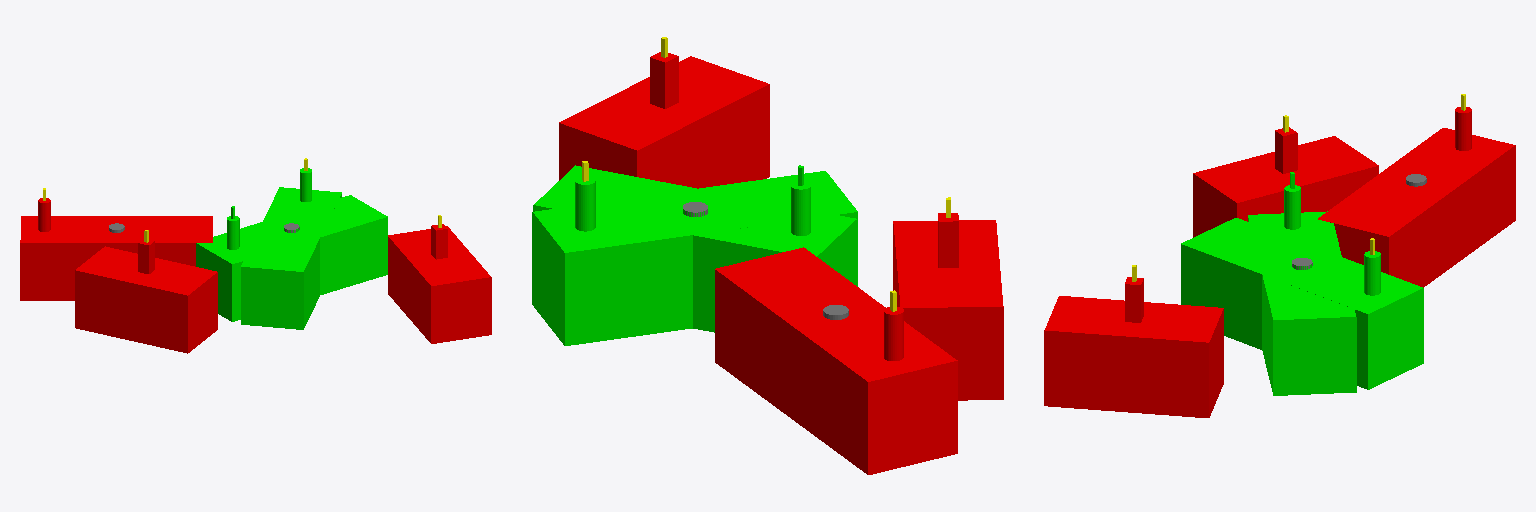
robot.urdf — continuous_space1:
<?xml version="1.0"?>
<!-- created with Phobos 1.0.1 "Capricious Choutengan" -->
  <robot name="continuous_space1">

    <link name="base_link">
    </link>

    <link name="goal">
      <visual name="visual_box_0_link_0.001">
        <origin xyz="0 0 0" rpy="0 0 0"/>
        <geometry>
          <box size="2.996 0.998 0.998"/>
        </geometry>
        <material name="green_translucent"/>
      </visual>
    </link>

    <link name="link_0_joint_0">
      <visual name="visual_box_0_link_0">
        <origin xyz="0 0 0" rpy="0 0 0"/>
        <geometry>
          <box size="2.999 0.999 0.999"/>
        </geometry>
        <material name="green"/>
      </visual>
      <collision name="collision_box_0_link_0">
        <origin xyz="0 0 0" rpy="0 0 0"/>
        <geometry>
          <box size="2.999 0.999 0.999"/>
        </geometry>
      </collision>
    </link>

    <link name="link_1_joint_0">
      <visual name="visual_box_4_link_1">
        <origin xyz="0 0 0" rpy="0 0 0"/>
        <geometry>
          <box size="1.999 0.999 0.999"/>
        </geometry>
        <material name="red"/>
      </visual>
      <collision name="collision_box_4_link_1">
        <origin xyz="0 0 0" rpy="0 0 0"/>
        <geometry>
          <box size="1.999 0.999 0.999"/>
        </geometry>
      </collision>
    </link>

    <link name="link_2_joint_0">
      <visual name="visual_box_24_link_2">
        <origin xyz="0 0 0" rpy="0 0 0"/>
        <geometry>
          <box size="2.999 0.999 0.999"/>
        </geometry>
        <material name="red"/>
      </visual>
      <collision name="collision_box_24_link_2">
        <origin xyz="0 0 0" rpy="0 0 0"/>
        <geometry>
          <box size="2.999 0.999 0.999"/>
        </geometry>
      </collision>
    </link>

    <link name="link_3_joint_0">
      <visual name="visual_box_34_link_3">
        <origin xyz="0 0 0" rpy="0 0 0"/>
        <geometry>
          <box size="1.999 0.999 0.999"/>
        </geometry>
        <material name="red"/>
      </visual>
      <collision name="collision_box_34_link_3">
        <origin xyz="0 0 0" rpy="0 0 0"/>
        <geometry>
          <box size="1.999 0.999 0.999"/>
        </geometry>
      </collision>
    </link>

    <link name="link_fixed_1_hinge">
      <visual name="visual_cylinder_fixed_1_hinge">
        <origin xyz="0 0 0" rpy="0 0 0"/>
        <geometry>
          <cylinder radius="0.1245" length="1.099"/>
        </geometry>
        <material name="gray"/>
      </visual>
    </link>

    <link name="link_fixed_1_hinge.001">
      <visual name="visual_cylinder_fixed_1_hinge.001">
        <origin xyz="0 0 0" rpy="0 0 0"/>
        <geometry>
          <cylinder radius="0.12438" length="1.0979"/>
        </geometry>
        <material name="green_translucent"/>
      </visual>
    </link>

    <link name="link_fixed_25_hinge">
      <visual name="visual_cylinder_fixed_25_hinge">
        <origin xyz="0 0 0" rpy="0 0 0"/>
        <geometry>
          <cylinder radius="0.1245" length="1.099"/>
        </geometry>
        <material name="gray"/>
      </visual>
    </link>

    <link name="link_fixed_26_handle_shaft">
      <visual name="visual_cylinder_fixed_26_handle_shaft">
        <origin xyz="0 0 0" rpy="0 0 0"/>
        <geometry>
          <cylinder radius="0.0995" length="0.499"/>
        </geometry>
        <material name="red"/>
      </visual>
      <collision name="collision_cylinder_fixed_26_handle_shaft">
        <origin xyz="0 0 0" rpy="0 0 0"/>
        <geometry>
          <cylinder radius="0.0995" length="0.499"/>
        </geometry>
      </collision>
    </link>

    <link name="link_fixed_27_handle_knob">
      <visual name="visual_box_fixed_27_handle_knob">
        <origin xyz="0 0 0" rpy="0 0 0"/>
        <geometry>
          <box size="0.049 0.049 0.199"/>
        </geometry>
        <material name="yellow"/>
      </visual>
      <collision name="collision_box_fixed_27_handle_knob">
        <origin xyz="0 0 0" rpy="0 0 0"/>
        <geometry>
          <box size="0.049 0.049 0.199"/>
        </geometry>
      </collision>
    </link>

    <link name="link_fixed_2_handle_shaft">
      <visual name="visual_cylinder_fixed_2_handle_shaft">
        <origin xyz="0 0 0" rpy="0 0 0"/>
        <geometry>
          <cylinder radius="0.0995" length="0.499"/>
        </geometry>
        <material name="green"/>
      </visual>
      <collision name="collision_cylinder_fixed_2_handle_shaft">
        <origin xyz="0 0 0" rpy="0 0 0"/>
        <geometry>
          <cylinder radius="0.0995" length="0.499"/>
        </geometry>
      </collision>
    </link>

    <link name="link_fixed_2_handle_shaft.001">
      <visual name="visual_cylinder_fixed_2_handle_shaft.001">
        <origin xyz="0 0 0" rpy="0 0 0"/>
        <geometry>
          <cylinder radius="0.0994" length="0.4985"/>
        </geometry>
        <material name="green_translucent"/>
      </visual>
    </link>

    <link name="link_fixed_35_handle_shaft">
      <visual name="visual_box_fixed_35_handle_shaft">
        <origin xyz="0 0 0" rpy="0 0 0"/>
        <geometry>
          <box size="0.199 0.199 0.499"/>
        </geometry>
        <material name="red"/>
      </visual>
      <collision name="collision_box_fixed_35_handle_shaft">
        <origin xyz="0 0 0" rpy="0 0 0"/>
        <geometry>
          <box size="0.199 0.199 0.499"/>
        </geometry>
      </collision>
    </link>

    <link name="link_fixed_36_handle_knob">
      <visual name="visual_box_fixed_36_handle_knob">
        <origin xyz="0 0 0" rpy="0 0 0"/>
        <geometry>
          <box size="0.049 0.049 0.199"/>
        </geometry>
        <material name="yellow"/>
      </visual>
      <collision name="collision_box_fixed_36_handle_knob">
        <origin xyz="0 0 0" rpy="0 0 0"/>
        <geometry>
          <box size="0.049 0.049 0.199"/>
        </geometry>
      </collision>
    </link>

    <link name="link_fixed_3_handle_knob">
      <visual name="visual_box_fixed_3_handle_knob">
        <origin xyz="0 0 0" rpy="0 0 0"/>
        <geometry>
          <box size="0.049 0.049 0.199"/>
        </geometry>
        <material name="yellow"/>
      </visual>
      <collision name="collision_box_fixed_3_handle_knob">
        <origin xyz="0 0 0" rpy="0 0 0"/>
        <geometry>
          <box size="0.049 0.049 0.199"/>
        </geometry>
      </collision>
    </link>

    <link name="link_fixed_3_handle_knob.001">
      <visual name="visual_box_fixed_3_handle_knob.001">
        <origin xyz="0 0 0" rpy="0 0 0"/>
        <geometry>
          <box size="0.04895 0.04895 0.1988"/>
        </geometry>
        <material name="green_translucent"/>
      </visual>
    </link>

    <link name="link_fixed_5_handle_shaft">
      <visual name="visual_box_fixed_5_handle_shaft">
        <origin xyz="0 0 0" rpy="0 0 0"/>
        <geometry>
          <box size="0.199 0.199 0.499"/>
        </geometry>
        <material name="red"/>
      </visual>
      <collision name="collision_box_fixed_5_handle_shaft">
        <origin xyz="0 0 0" rpy="0 0 0"/>
        <geometry>
          <box size="0.199 0.199 0.499"/>
        </geometry>
      </collision>
    </link>

    <link name="link_fixed_6_handle_knob">
      <visual name="visual_box_fixed_6_handle_knob">
        <origin xyz="0 0 0" rpy="0 0 0"/>
        <geometry>
          <box size="0.049 0.049 0.199"/>
        </geometry>
        <material name="yellow"/>
      </visual>
      <collision name="collision_box_fixed_6_handle_knob">
        <origin xyz="0 0 0" rpy="0 0 0"/>
        <geometry>
          <box size="0.049 0.049 0.199"/>
        </geometry>
      </collision>
    </link>

    <joint name="goal" type="fixed">
      <origin xyz="0 0 0.5" rpy="0 0 -3.03948"/>
      <parent link="base_link"/>
      <child link="goal"/>
      <limit effort="0" velocity="0"/>
    </joint>

    <joint name="link_0_joint_0" type="revolute">
      <origin xyz="0 0 0.5" rpy="0 0 0.84424"/>
      <parent link="base_link"/>
      <child link="link_0_joint_0"/>
      <axis xyz="0 0 1.0"/>
      <limit lower="0" upper="2.39947" effort="0" velocity="0"/>
    </joint>

    <joint name="link_1_joint_0" type="prismatic">
      <origin xyz="1.5076 -2.0066 0.5" rpy="0 0 -1.74518"/>
      <parent link="base_link"/>
      <child link="link_1_joint_0"/>
      <axis xyz="1.0 0 0"/>
      <limit lower="0" upper="2.41991" effort="0" velocity="0"/>
    </joint>

    <joint name="link_2_joint_0" type="revolute">
      <origin xyz="-2.3636 1.36223 0.5" rpy="0 0 2.61494"/>
      <parent link="base_link"/>
      <child link="link_2_joint_0"/>
      <axis xyz="0 0 1.0"/>
      <limit lower="0" upper="2.89714" effort="0" velocity="0"/>
    </joint>

    <joint name="link_3_joint_0" type="prismatic">
      <origin xyz="-2.72408 -0.19267 0.5" rpy="0 0 -1.01158"/>
      <parent link="base_link"/>
      <child link="link_3_joint_0"/>
      <axis xyz="1.0 0 0"/>
      <limit lower="0" upper="2.48548" effort="0" velocity="0"/>
    </joint>

    <joint name="link_fixed_1_hinge" type="fixed">
      <origin xyz="0 0 0" rpy="0 0 0"/>
      <parent link="link_0_joint_0"/>
      <child link="link_fixed_1_hinge"/>
    </joint>

    <joint name="link_fixed_1_hinge.001" type="fixed">
      <origin xyz="0 0 0" rpy="0 0 0"/>
      <parent link="goal"/>
      <child link="link_fixed_1_hinge.001"/>
    </joint>

    <joint name="link_fixed_25_hinge" type="fixed">
      <origin xyz="0 0 0" rpy="0 0 0"/>
      <parent link="link_2_joint_0"/>
      <child link="link_fixed_25_hinge"/>
    </joint>

    <joint name="link_fixed_26_handle_shaft" type="fixed">
      <origin xyz="1.125 0 0.75" rpy="0 0 0"/>
      <parent link="link_2_joint_0"/>
      <child link="link_fixed_26_handle_shaft"/>
    </joint>

    <joint name="link_fixed_27_handle_knob" type="fixed">
      <origin xyz="0 0 0.35" rpy="0 0 0"/>
      <parent link="link_fixed_26_handle_shaft"/>
      <child link="link_fixed_27_handle_knob"/>
    </joint>

    <joint name="link_fixed_2_handle_shaft" type="fixed">
      <origin xyz="1.125 0 0.75" rpy="0 0 0"/>
      <parent link="link_0_joint_0"/>
      <child link="link_fixed_2_handle_shaft"/>
    </joint>

    <joint name="link_fixed_2_handle_shaft.001" type="fixed">
      <origin xyz="1.12387 0 0.74925" rpy="0 0 0"/>
      <parent link="goal"/>
      <child link="link_fixed_2_handle_shaft.001"/>
    </joint>

    <joint name="link_fixed_35_handle_shaft" type="fixed">
      <origin xyz="0 0 0.75" rpy="0 0 0"/>
      <parent link="link_3_joint_0"/>
      <child link="link_fixed_35_handle_shaft"/>
    </joint>

    <joint name="link_fixed_36_handle_knob" type="fixed">
      <origin xyz="0 0 0.35" rpy="0 0 0"/>
      <parent link="link_fixed_35_handle_shaft"/>
      <child link="link_fixed_36_handle_knob"/>
    </joint>

    <joint name="link_fixed_3_handle_knob" type="fixed">
      <origin xyz="0 0 0.35" rpy="0 0 0"/>
      <parent link="link_fixed_2_handle_shaft"/>
      <child link="link_fixed_3_handle_knob"/>
    </joint>

    <joint name="link_fixed_3_handle_knob.001" type="fixed">
      <origin xyz="0 0 0.34965" rpy="0 0 0"/>
      <parent link="link_fixed_2_handle_shaft.001"/>
      <child link="link_fixed_3_handle_knob.001"/>
    </joint>

    <joint name="link_fixed_5_handle_shaft" type="fixed">
      <origin xyz="0 0 0.75" rpy="0 0 0"/>
      <parent link="link_1_joint_0"/>
      <child link="link_fixed_5_handle_shaft"/>
    </joint>

    <joint name="link_fixed_6_handle_knob" type="fixed">
      <origin xyz="0 0 0.35" rpy="0 0 0"/>
      <parent link="link_fixed_5_handle_shaft"/>
      <child link="link_fixed_6_handle_knob"/>
    </joint>

    <material name="gray">
      <color rgba="0.5 0.5 0.5 1.0"/>
    </material>

    <material name="green">
      <color rgba="0 1.0 0 1.0"/>
    </material>

    <material name="green_translucent">
      <color rgba="0 1.0 0 0.25"/>
    </material>

    <material name="red">
      <color rgba="1.0 0 0 1.0"/>
    </material>

    <material name="yellow">
      <color rgba="1.0 1.0 0 1.0"/>
    </material>

  </robot>

--- Render facts (derived) ---
Views: 3 orthographic renders of the robot side by side, from view 1: azimuth 30°, elevation 25°; view 2: azimuth 150°, elevation 25°; view 3: azimuth 270°, elevation 25°.
Robot: continuous_space1 — 19 links, 18 joints (2 revolute, 2 prismatic, 14 fixed); root link base_link; default pose: all joints at 0.
Visible links, largest first — view 1: link_3_joint_0, link_0_joint_0, link_2_joint_0, link_1_joint_0, goal, link_fixed_5_handle_shaft, link_fixed_35_handle_shaft; view 2: link_2_joint_0, link_0_joint_0, link_1_joint_0, link_3_joint_0, goal, link_fixed_5_handle_shaft, link_fixed_35_handle_shaft, link_fixed_2_handle_shaft, link_fixed_2_handle_shaft.001, link_fixed_26_handle_shaft; view 3: link_1_joint_0, link_2_joint_0, link_0_joint_0, goal, link_3_joint_0, link_fixed_35_handle_shaft, link_fixed_5_handle_shaft, link_fixed_2_handle_shaft.001, link_fixed_2_handle_shaft, link_fixed_26_handle_shaft.
Boxes of the visible links, x1=… form: link_3_joint_0: x1=75, y1=246, x2=217, y2=353; link_0_joint_0: x1=241, y1=187, x2=341, y2=329; link_2_joint_0: x1=20, y1=216, x2=212, y2=300; link_1_joint_0: x1=388, y1=226, x2=491, y2=343; goal: x1=196, y1=195, x2=387, y2=321; link_fixed_5_handle_shaft: x1=431, y1=224, x2=447, y2=259; link_fixed_35_handle_shaft: x1=138, y1=239, x2=154, y2=273; link_2_joint_0: x1=715, y1=247, x2=957, y2=474; link_0_joint_0: x1=532, y1=171, x2=857, y2=345; link_1_joint_0: x1=559, y1=56, x2=769, y2=188; link_3_joint_0: x1=893, y1=220, x2=1003, y2=400; goal: x1=533, y1=165, x2=856, y2=332; link_fixed_5_handle_shaft: x1=650, y1=52, x2=678, y2=108; link_fixed_35_handle_shaft: x1=938, y1=213, x2=958, y2=267; link_fixed_2_handle_shaft: x1=575, y1=177, x2=595, y2=231; link_fixed_2_handle_shaft.001: x1=791, y1=181, x2=810, y2=235; link_fixed_26_handle_shaft: x1=884, y1=307, x2=903, y2=360; link_1_joint_0: x1=1044, y1=296, x2=1223, y2=417; link_2_joint_0: x1=1318, y1=128, x2=1515, y2=287; link_0_joint_0: x1=1181, y1=218, x2=1423, y2=389; goal: x1=1248, y1=211, x2=1356, y2=395; link_3_joint_0: x1=1193, y1=136, x2=1378, y2=237; link_fixed_35_handle_shaft: x1=1275, y1=127, x2=1297, y2=173; link_fixed_5_handle_shaft: x1=1125, y1=277, x2=1143, y2=322; link_fixed_2_handle_shaft.001: x1=1284, y1=185, x2=1300, y2=229; link_fixed_2_handle_shaft: x1=1364, y1=251, x2=1380, y2=295; link_fixed_26_handle_shaft: x1=1455, y1=107, x2=1471, y2=150.
Bounding box of the posed robot: 6.08 × 5.63 × 1.75 m (x, y, z).
Geometry: primitives only (box / cylinder / sphere), no mesh files.